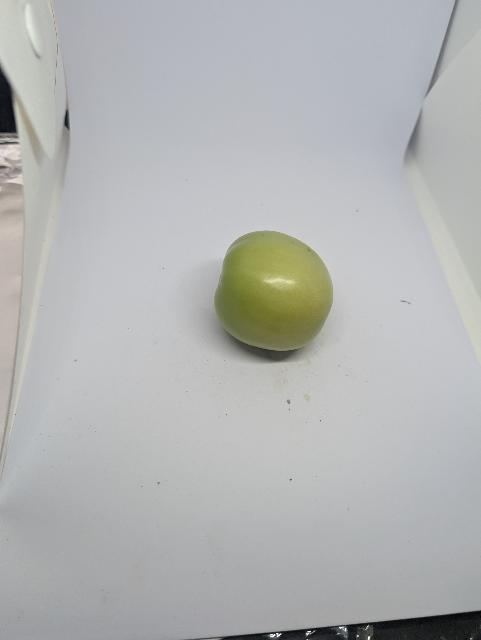green: (213, 228, 337, 355)
